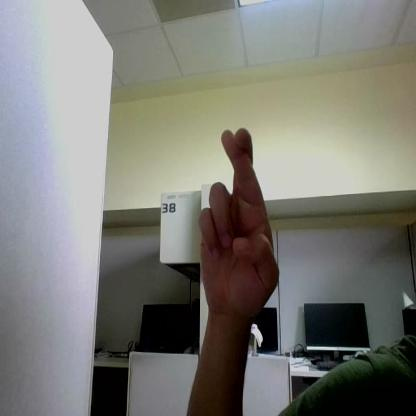R: (200, 128, 280, 310)
